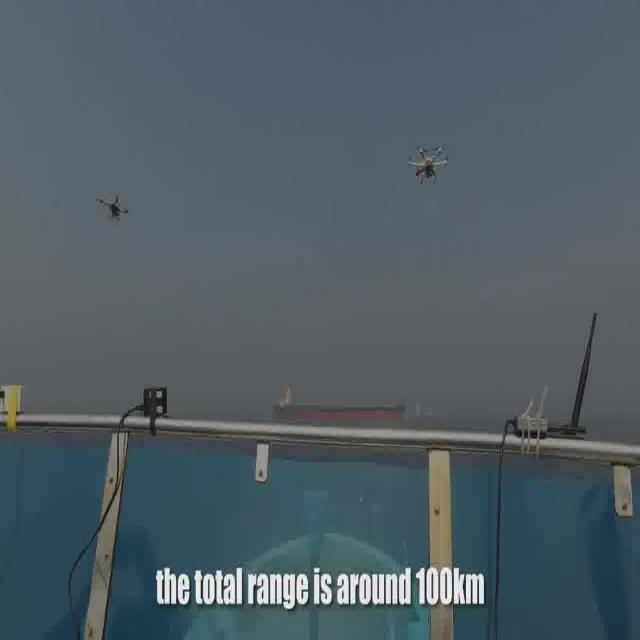drone: (406, 138, 448, 189), (96, 190, 130, 222)
